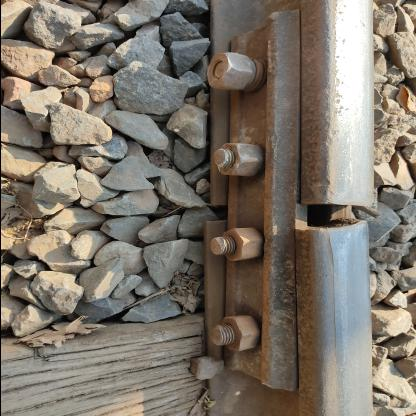Defective 2: (264, 174, 386, 266)
Non Defective 3: (178, 8, 306, 412)
